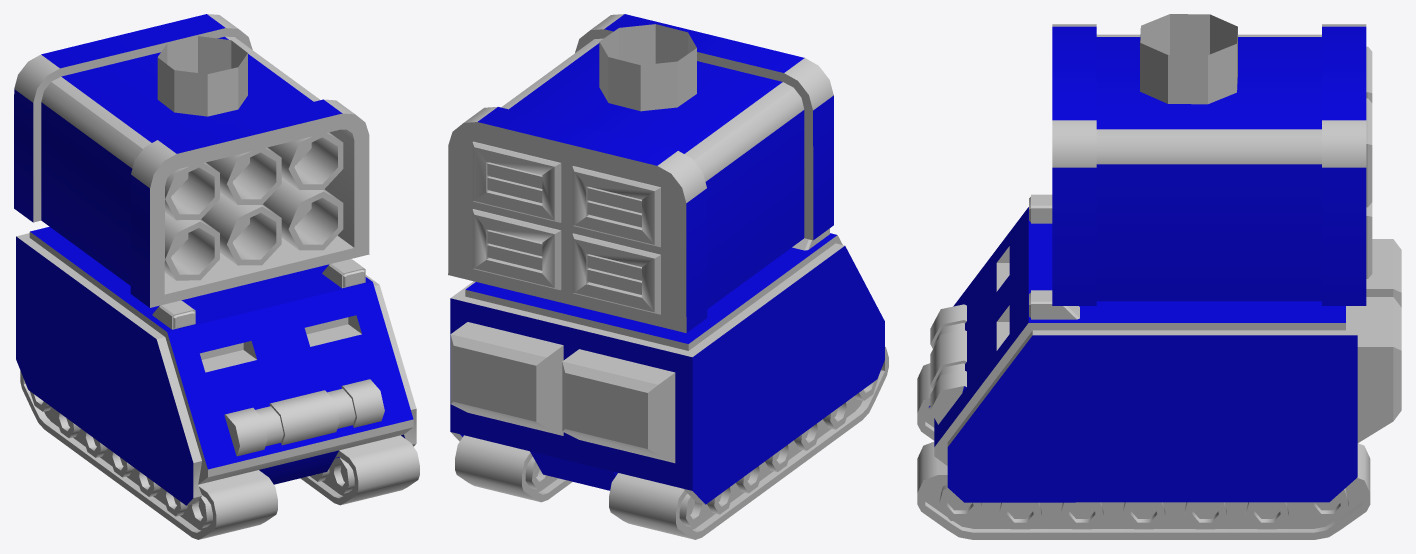
File: Tank(3Level).fbx
3 renders of one model, left to right at view 1: azimuth 30°, elevation 25°; view 2: azimuth 150°, elevation 25°; view 3: azimuth 270°, elevation 25°, orthographic. The views are drawn at different scales.
Visible parts, largest first — view 1: Tank, MissileSet; view 2: MissileSet, Tank; view 3: Tank, MissileSet.
Boxes of the visible parts, left/top/right/bottom form: Tank: left=16, top=226, right=419, bottom=539; MissileSet: left=14, top=14, right=369, bottom=307; MissileSet: left=448, top=14, right=833, bottom=332; Tank: left=450, top=228, right=888, bottom=539; Tank: left=917, top=194, right=1401, bottom=539; MissileSet: left=1052, top=14, right=1372, bottom=305.
Size of the model in its own units: 229 by 373 by 382.
